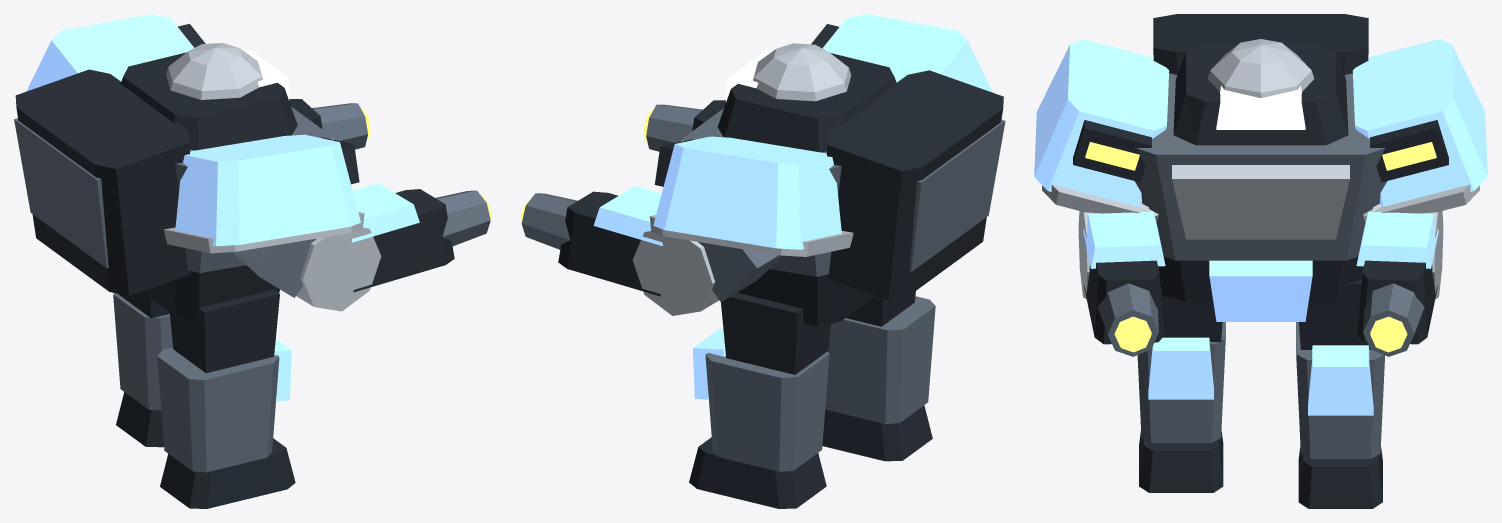
The model's file is breacher.glb.
The picture shows the model from 3 angles, left to right: view 1: azimuth 30°, elevation 25°; view 2: azimuth 150°, elevation 25°; view 3: azimuth 270°, elevation 25°; orthographic projection. The views are drawn at different scales.
Visible parts, largest first — view 1: Surf_dark, Surf_TEAM, Surf_heavy, Surf_heavy3, Surf_dark3, Surf_light, Surf_heavy2, Surf_dark2, Surf_TEAM3, Surf_visor; view 2: Surf_dark, Surf_TEAM, Surf_heavy, Surf_heavy2, Surf_dark2, Surf_light, Surf_heavy3, Surf_dark3, Surf_TEAM2, Surf_visor; view 3: Surf_TEAM, Surf_dark, Surf_light, Surf_heavy, Surf_dark2, Surf_dark3, Surf_heavy2, Surf_heavy3, Surf_TEAM2, Surf_TEAM3, Surf_amber, Surf_visor.
Part boxes in pixels (x1,y1,x2,y2): Surf_dark: (15,23,454,320); Surf_TEAM: (26,14,419,246); Surf_heavy: (14,103,490,297); Surf_heavy3: (157,347,279,472); Surf_dark3: (160,289,295,508); Surf_light: (164,43,381,311); Surf_heavy2: (113,293,172,410); Surf_dark2: (116,291,169,447); Surf_TEAM3: (274,339,291,401); Surf_visor: (244,50,289,100); Surf_dark: (558,24,1003,326); Surf_TEAM: (593,14,992,249); Surf_heavy: (521,104,1005,301); Surf_heavy2: (705,351,829,471); Surf_dark2: (689,292,830,508); Surf_light: (632,43,853,315); Surf_heavy3: (825,296,935,423); Surf_dark3: (822,291,932,461); Surf_TEAM2: (693,328,725,399); Surf_visor: (726,51,771,102); Surf_TEAM: (1034,39,1487,321); Surf_dark: (1073,14,1448,344); Surf_light: (1042,39,1479,298); Surf_heavy: (1097,73,1424,356); Surf_dark2: (1298,279,1382,508); Surf_dark3: (1139,287,1223,492); Surf_heavy2: (1296,322,1384,458); Surf_heavy3: (1137,322,1225,442); Surf_TEAM2: (1308,345,1373,415); Surf_TEAM3: (1148,337,1213,399); Surf_amber: (1085,142,1436,352); Surf_visor: (1216,85,1305,129).
Size of the model in its own units: 1.95 by 2.04 by 1.94.
